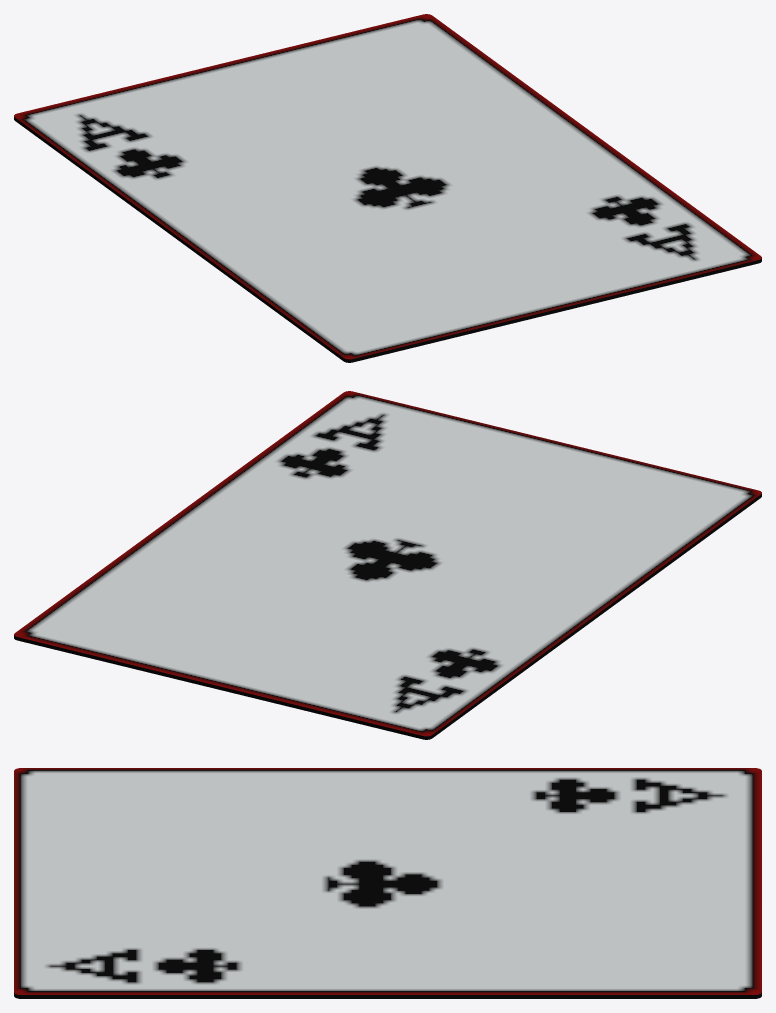
The model's file is Card.glb.
The picture shows the model from 3 angles, top to bottom: view 1: azimuth 30°, elevation 25°; view 2: azimuth 150°, elevation 25°; view 3: azimuth 270°, elevation 25°; orthographic projection. The views are drawn at different scales.
Parts seen in each view (by area): view 1: Card; view 2: Card; view 3: Card.
Part boxes in pixels (x1,y1,x2,y2): Card: (14, 14, 761, 362); Card: (14, 391, 761, 739); Card: (14, 768, 761, 998).
Size of the model in its own units: 0.0625 by 0.0005 by 0.087.
Materials: 3 (2 with a texture image).
